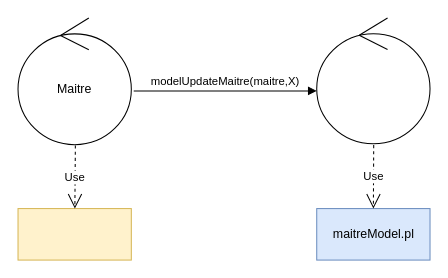
Some shapes in this 448 by 278 pixel diagram are drawn without their labels. The centre of each missing label's shape, as x and y in pixels:
MaitreGUI: the point at 74,234
MaitreModel: the point at 373,80
